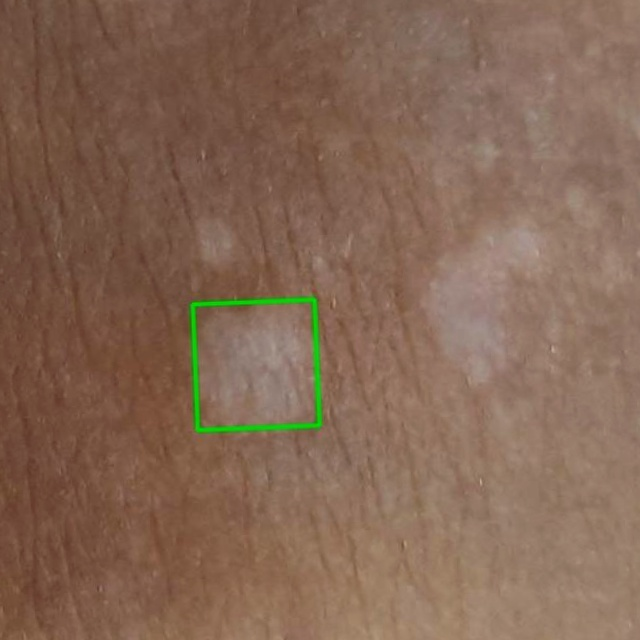Eczema: (193, 299, 319, 430)
